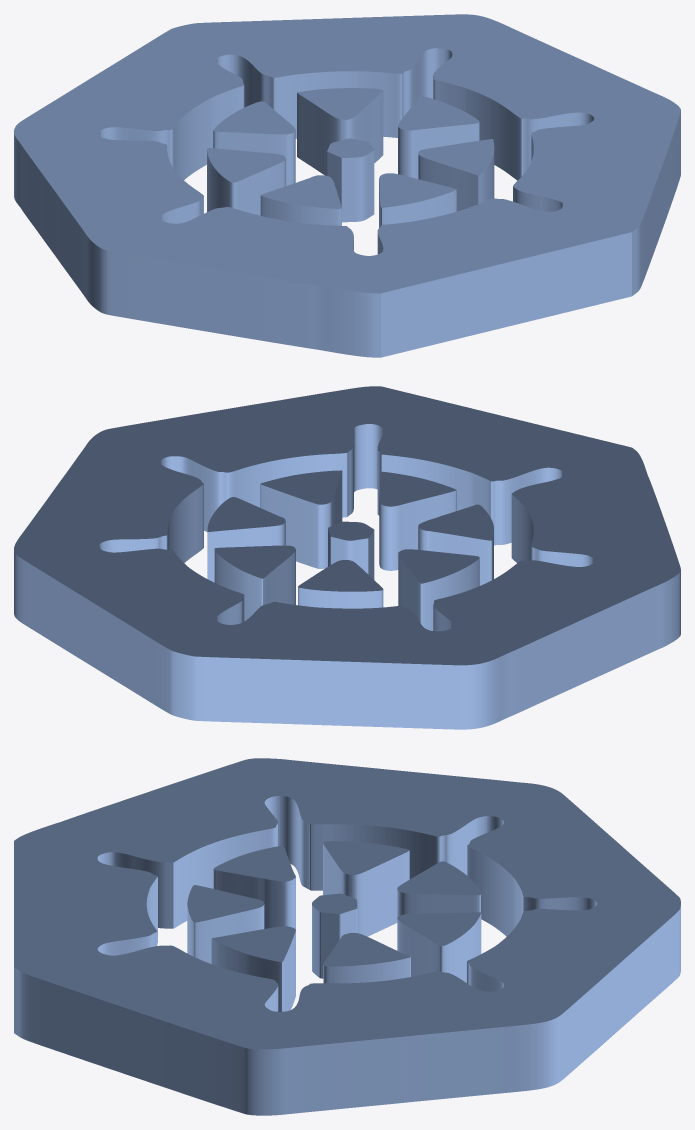
Rendered from Kubernetes-transformed-draco.glb.
The picture shows the model from 3 angles, top to bottom: view 1: azimuth 30°, elevation 25°; view 2: azimuth 150°, elevation 25°; view 3: azimuth 270°, elevation 25°; orthographic projection. The views are drawn at different scales.
Parts seen in each view (by area): view 1: Node1, Node8, Node3, Node4, Node5, Node2, Node9, Node6, Node7; view 2: Node1, Node4, Node6, Node8, Node3, Node7, Node5, Node2, Node9; view 3: Node1, Node3, Node8, Node7, Node4, Node6, Node2, Node5, Node9.
Part boxes in pixels (<box>): Node1: <box>14,14,680,357</box>; Node8: <box>297,88,383,175</box>; Node3: <box>207,148,285,215</box>; Node4: <box>418,139,494,211</box>; Node5: <box>398,96,479,178</box>; Node2: <box>213,101,295,185</box>; Node9: <box>327,138,374,222</box>; Node6: <box>379,173,456,227</box>; Node7: <box>260,175,341,225</box>; Node1: <box>14,386,680,729</box>; Node4: <box>260,470,342,568</box>; Node6: <box>379,471,456,570</box>; Node8: <box>214,545,295,621</box>; Node3: <box>398,549,479,630</box>; Node7: <box>418,504,493,585</box>; Node5: <box>207,497,285,582</box>; Node2: <box>298,560,383,608</box>; Node9: <box>328,521,374,579</box>; Node1: <box>14,758,680,1115</box>; Node3: <box>323,841,409,936</box>; Node8: <box>397,912,481,982</box>; Node7: <box>213,846,295,929</box>; Node4: <box>211,926,295,1011</box>; Node6: <box>187,885,264,963</box>; Node2: <box>397,861,480,917</box>; Node5: <box>323,933,410,983</box>; Node9: <box>312,893,357,978</box>.
Size of what is drawn, in the model's own units: 94.3 by 10 by 91.29.
